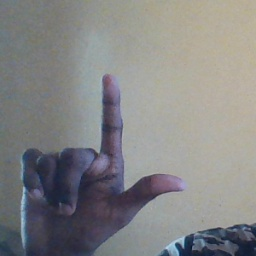L: (18, 73, 189, 254)
